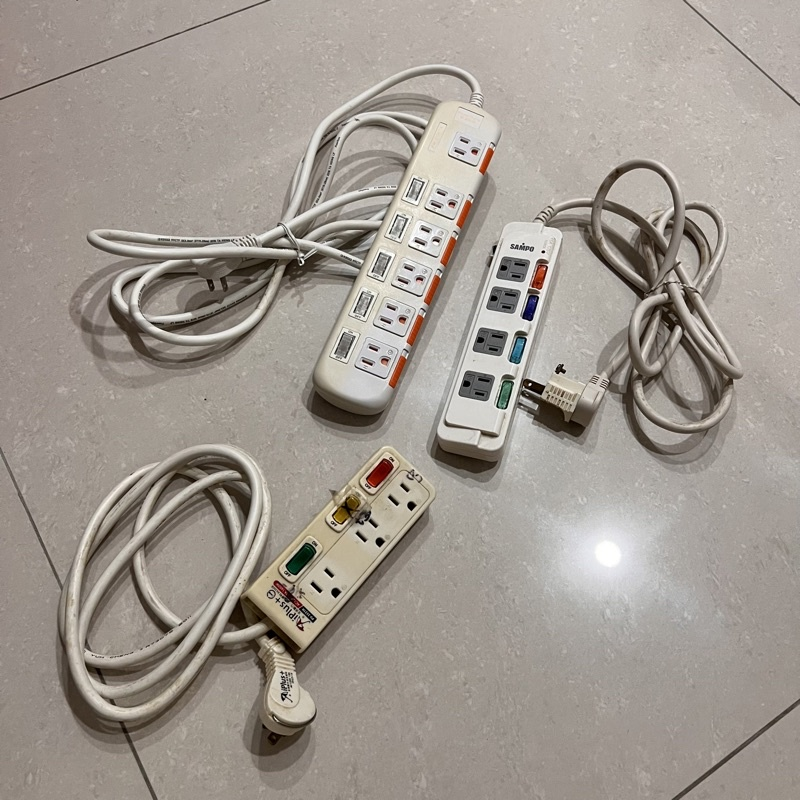socket: (310, 93, 504, 416), (241, 442, 437, 651), (436, 204, 565, 465)
